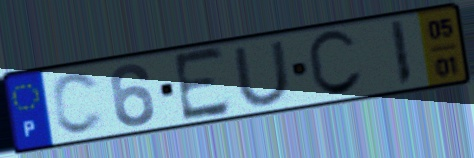6: (107, 61, 157, 129)
C: (304, 27, 367, 100), (49, 70, 108, 138)
E: (169, 44, 233, 125)
I: (387, 17, 415, 89)
U: (229, 37, 295, 108)
